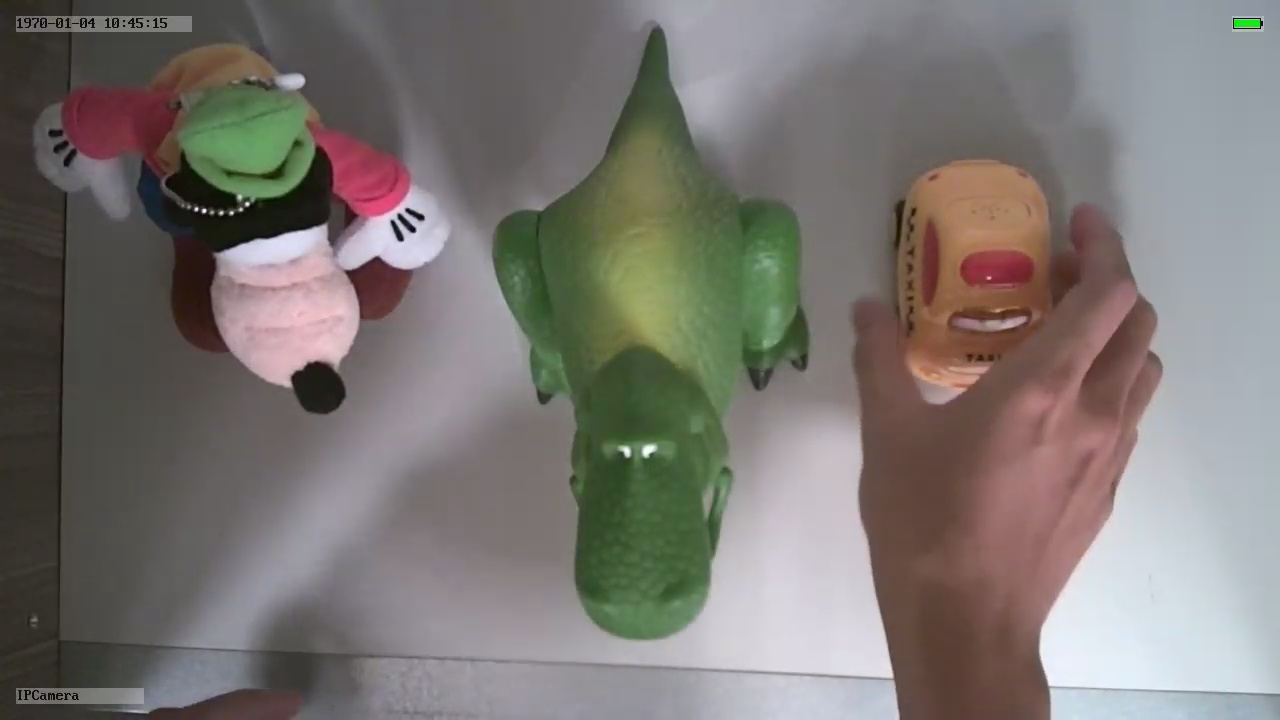goofy: (26, 37, 452, 416)
rex: (492, 106, 813, 639)
